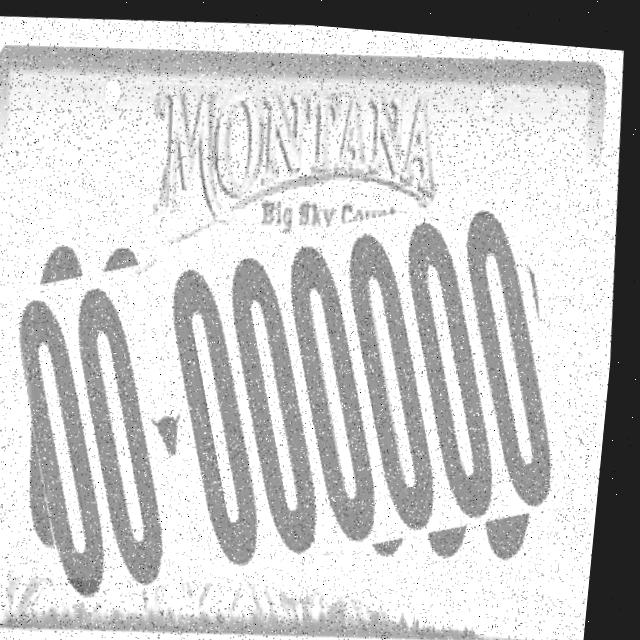LicensePlate: (2, 174, 593, 611)
